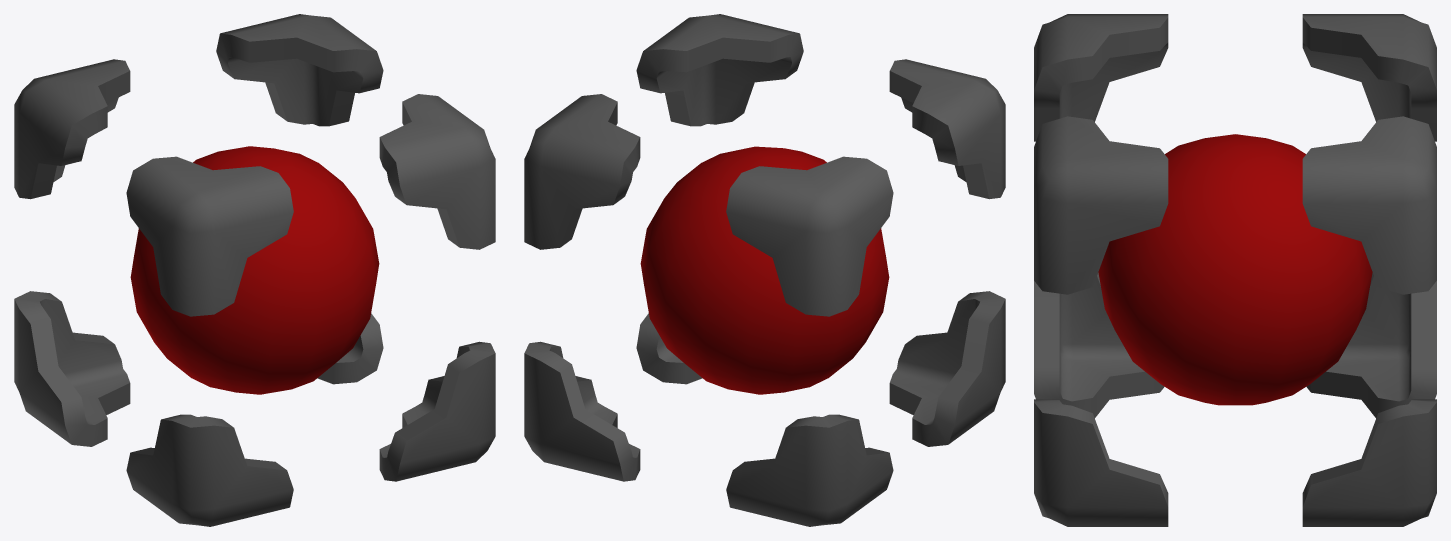
The picture shows the model from 3 angles, left to right: view 1: azimuth 30°, elevation 25°; view 2: azimuth 150°, elevation 25°; view 3: azimuth 270°, elevation 25°; orthographic projection. The views are drawn at different scales.
Visible parts, largest first — view 1: Pickup_Sphere; view 2: Pickup_Sphere; view 3: Pickup_Sphere.
Part boxes in pixels (<box>): Pickup_Sphere: <box>14,14,495,526</box>; Pickup_Sphere: <box>524,14,1005,526</box>; Pickup_Sphere: <box>1034,14,1436,526</box>.
Size of the model in its own units: 0.8856 by 0.8856 by 0.8856.
